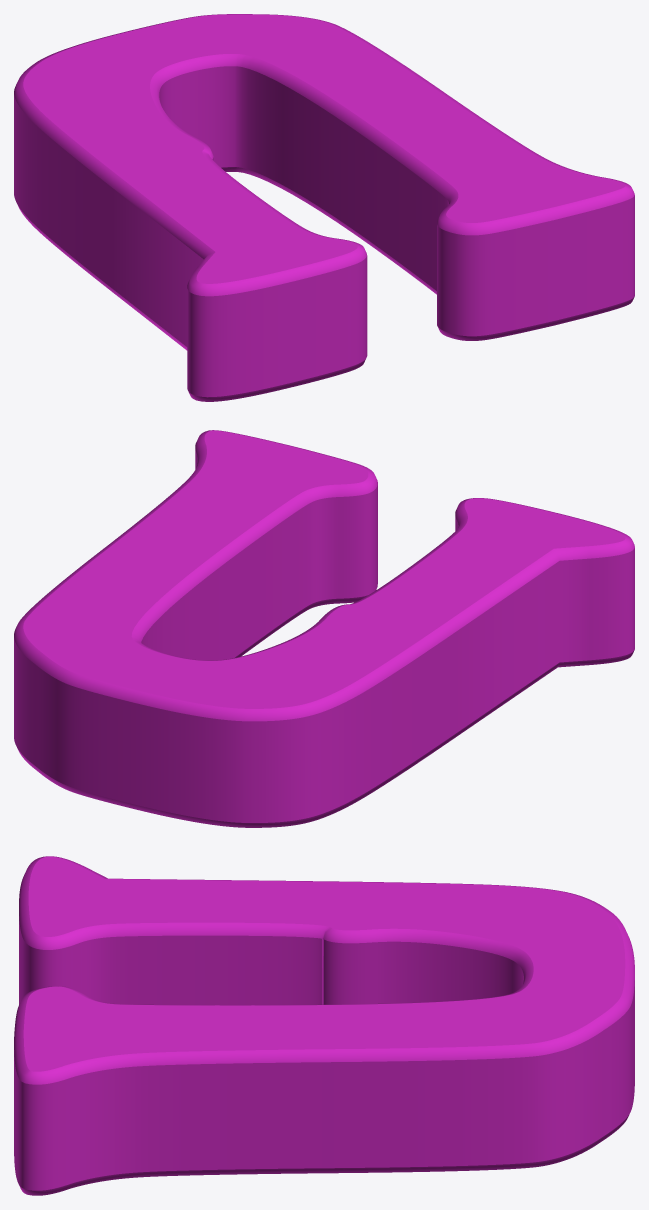
The model's file is Bubble_LetterU.fbx.
3 views of the same model, one above another, from view 1: azimuth 30°, elevation 25°; view 2: azimuth 150°, elevation 25°; view 3: azimuth 270°, elevation 25° (orthographic). The views are drawn at different scales.
Parts seen in each view (by area): view 1: BubbleLetter_U; view 2: BubbleLetter_U; view 3: BubbleLetter_U.
Part boxes in pixels (x1,y1,x2,y2): BubbleLetter_U: [14, 14, 634, 401]; BubbleLetter_U: [14, 430, 634, 827]; BubbleLetter_U: [14, 856, 634, 1195].
Size of the model in its own units: 0.5425 by 0.14 by 0.6369.
